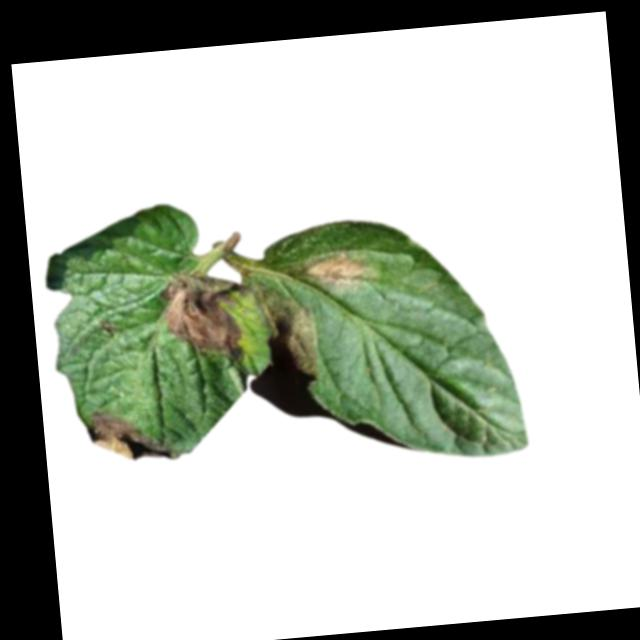Late_blight: (157, 266, 246, 373), (251, 279, 321, 383), (86, 407, 179, 466), (296, 247, 372, 295), (98, 319, 114, 335)
